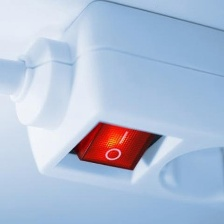three_eye_plug: (15, 0, 224, 211)
